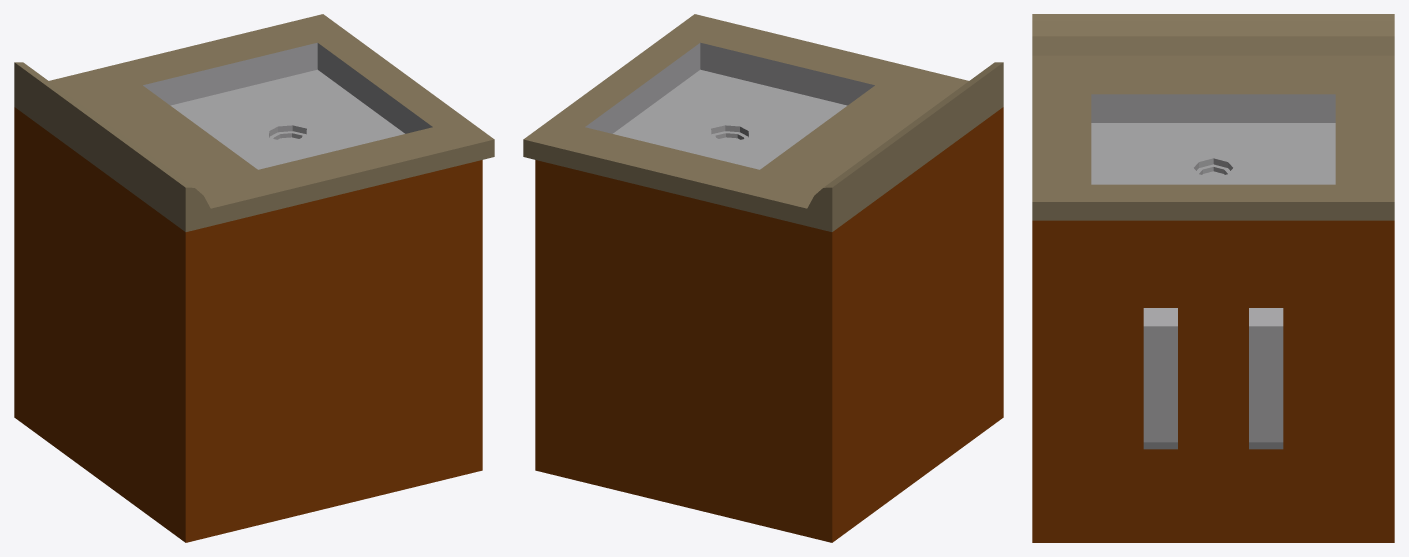
The model's file is PiaCozinhaENecroterio.fbx.
The picture shows the model from 3 angles, left to right: view 1: azimuth 30°, elevation 25°; view 2: azimuth 150°, elevation 25°; view 3: azimuth 270°, elevation 25°; orthographic projection. The views are drawn at different scales.
Parts seen in each view (by area): view 1: Cube.001; view 2: Cube.001; view 3: Cube.001.
Part boxes in pixels (left/top/right/bottom): Cube.001: left=14, top=14, right=494, bottom=542; Cube.001: left=523, top=14, right=1003, bottom=542; Cube.001: left=1032, top=14, right=1394, bottom=542.
Size of the model in its own units: 136 by 150 by 131.
